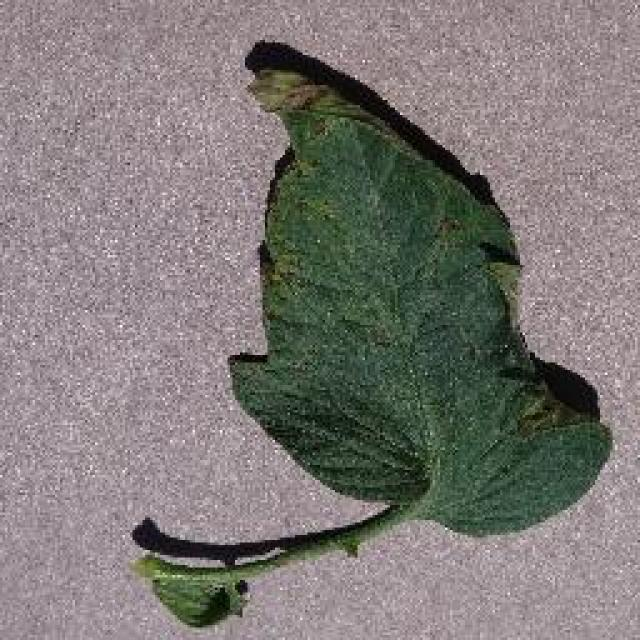Tomato___Septoria_leaf_spot: (135, 70, 610, 625)
